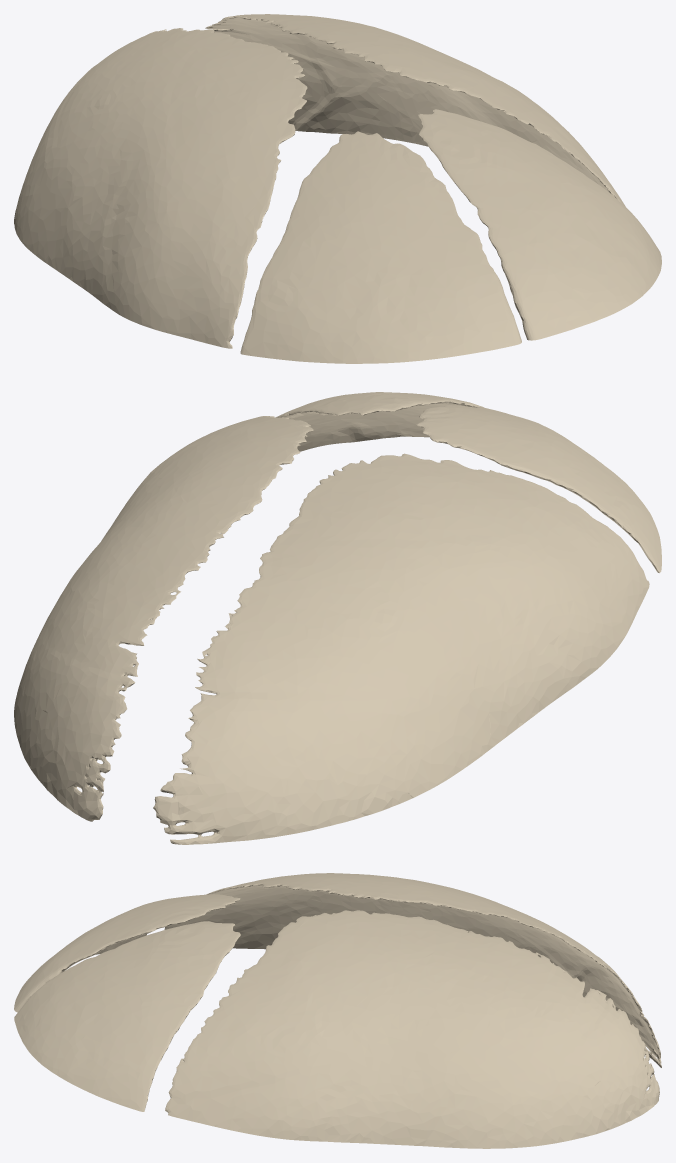
The model's file is calotte.glb.
The picture shows the model from 3 angles, top to bottom: view 1: azimuth 30°, elevation 25°; view 2: azimuth 150°, elevation 25°; view 3: azimuth 270°, elevation 25°; orthographic projection. The views are drawn at different scales.
Visible parts, largest first — view 1: CranialBase_300K.002; view 2: CranialBase_300K.002; view 3: CranialBase_300K.002.
Boxes of the visible parts, x1,y1,x2,y2 form: CranialBase_300K.002: (14,14,661,363); CranialBase_300K.002: (14,392,661,844); CranialBase_300K.002: (14,873,661,1148).
Bounding box in the file's own units: 24.25 × 11.03 × 34.89.
